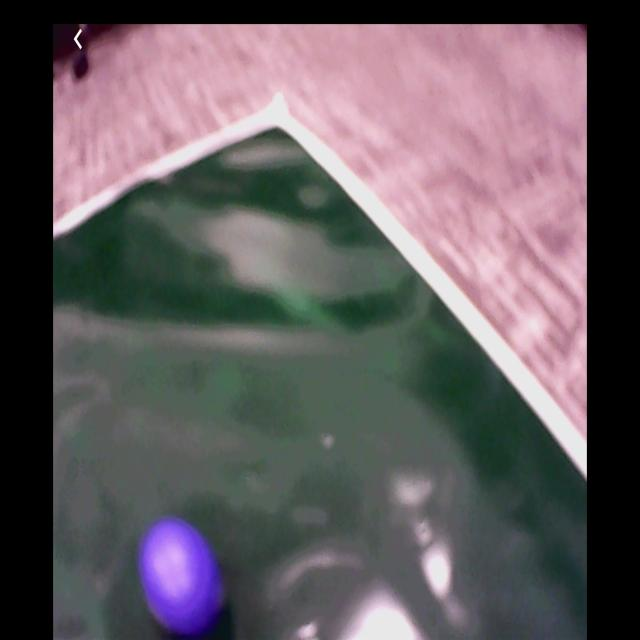ball: (143, 514, 225, 640)
